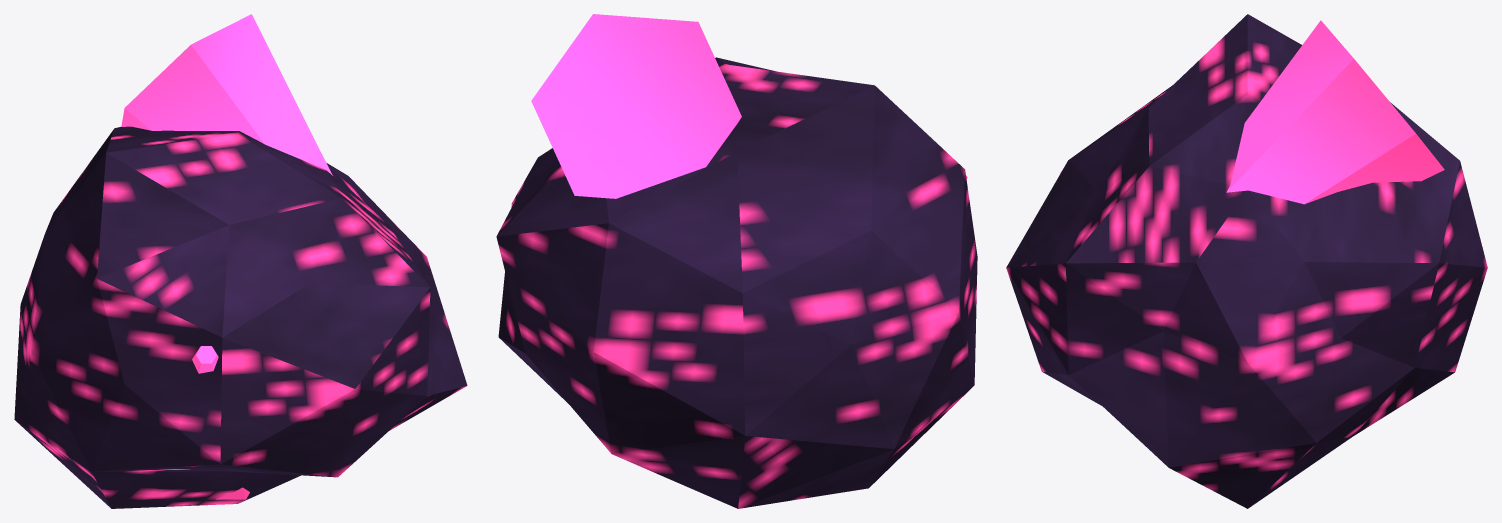
Rendered from chunk_void_iridium.glb.
3 views of the same model, side by side, from view 1: azimuth 30°, elevation 25°; view 2: azimuth 150°, elevation 25°; view 3: azimuth 270°, elevation 25° (orthographic). The views are drawn at different scales.
Parts seen in each view (by area): view 1: chunk_void_iridium; view 2: chunk_void_iridium; view 3: chunk_void_iridium.
Part boxes in pixels (x1,y1,x2,y2): chunk_void_iridium: [14, 14, 467, 508]; chunk_void_iridium: [496, 14, 977, 508]; chunk_void_iridium: [1006, 14, 1487, 508].
Size of the model in its own units: 0.8731 by 0.9158 by 0.8914.
1 material, 1 textured.
